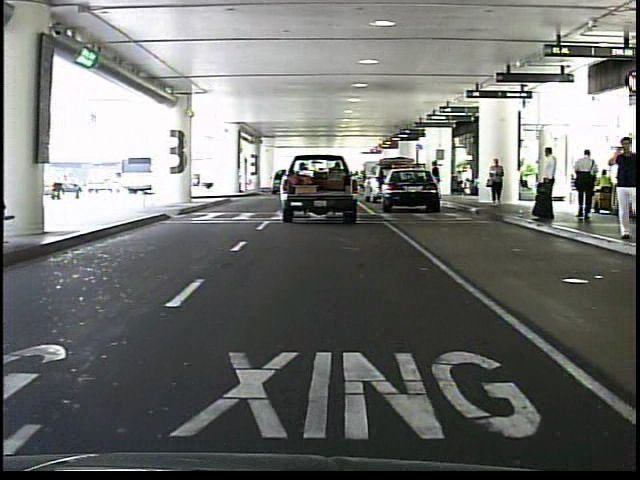person: (605, 137, 640, 249), (570, 145, 601, 223), (533, 143, 562, 225), (486, 155, 510, 211), (431, 158, 445, 202)
